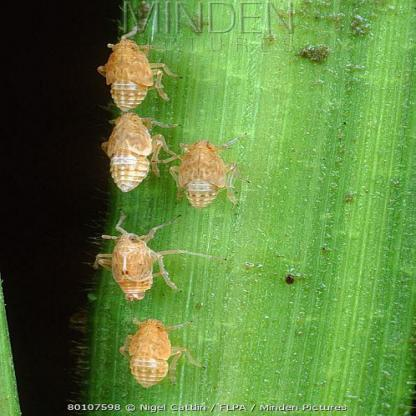brown-planthopper: (101, 216, 180, 302), (117, 316, 203, 390), (101, 112, 159, 193), (172, 141, 240, 208), (104, 40, 170, 109)
